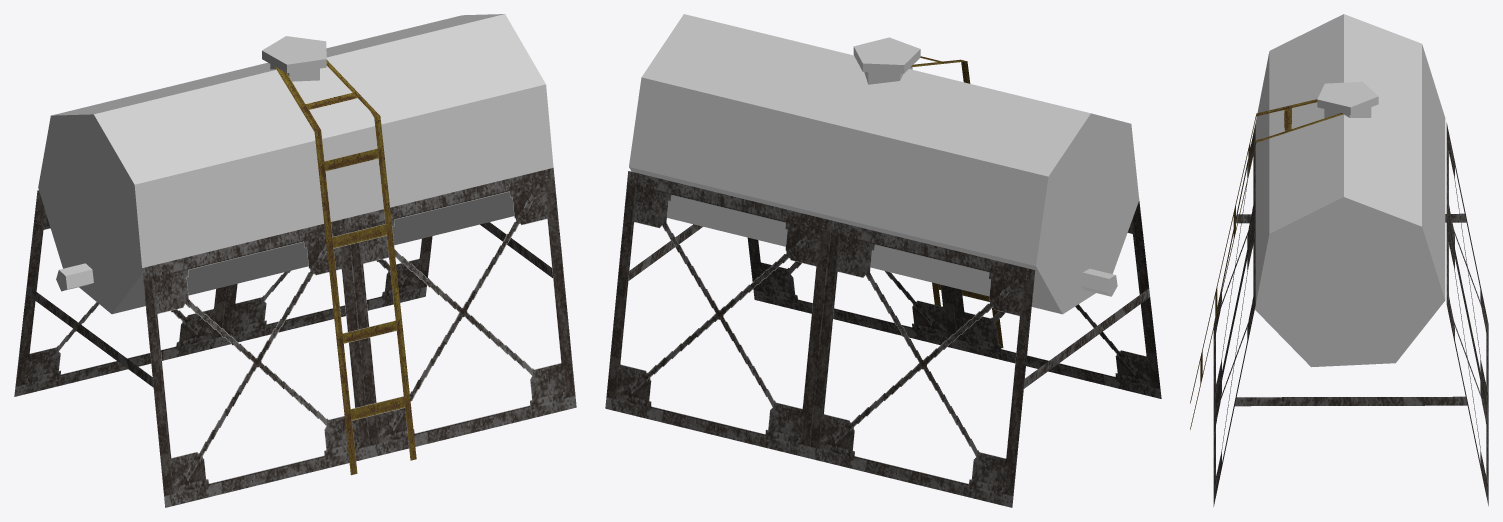
Rendered from FuelTank.fbx.
The picture shows the model from 3 angles, left to right: view 1: azimuth 30°, elevation 25°; view 2: azimuth 150°, elevation 25°; view 3: azimuth 270°, elevation 25°; orthographic projection. The views are drawn at different scales.
Visible parts, largest first — view 1: FuelTank.001, FuelTank; view 2: FuelTank.001, FuelTank; view 3: FuelTank.001, FuelTank.
Part boxes in pixels (bbox=[...]): FuelTank.001: bbox=[38, 14, 553, 314]; FuelTank: bbox=[14, 60, 576, 507]; FuelTank.001: bbox=[629, 14, 1139, 314]; FuelTank: bbox=[605, 56, 1161, 507]; FuelTank.001: bbox=[1255, 14, 1445, 367]; FuelTank: bbox=[1190, 99, 1488, 506].
Bounding box in the file's own units: 382 × 295 × 247.
